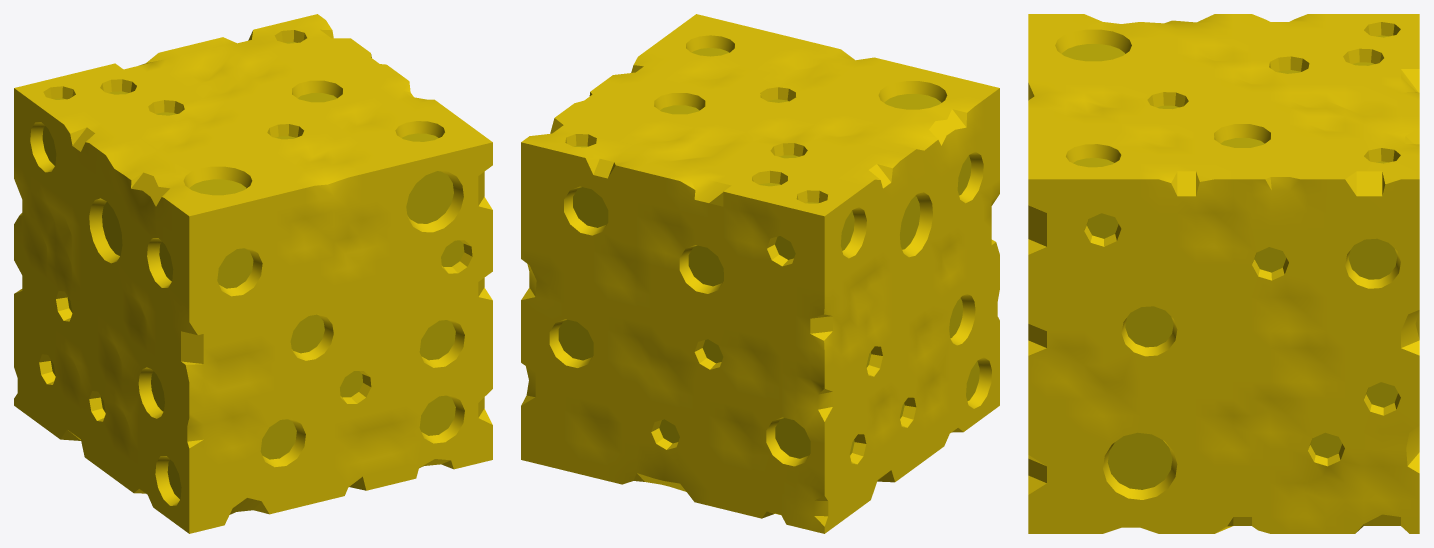
File: Cheese.fbx
The picture shows the model from 3 angles, left to right: view 1: azimuth 30°, elevation 25°; view 2: azimuth 150°, elevation 25°; view 3: azimuth 270°, elevation 25°; orthographic projection. The views are drawn at different scales.
Visible parts, largest first — view 1: Cube; view 2: Cube; view 3: Cube.
Boxes of the visible parts, left/top/right/bottom form: Cube: left=14, top=14, right=492, bottom=533; Cube: left=521, top=14, right=999, bottom=533; Cube: left=1028, top=14, right=1419, bottom=533.
Bounding box in the file's own units: 160 × 160 × 160.
